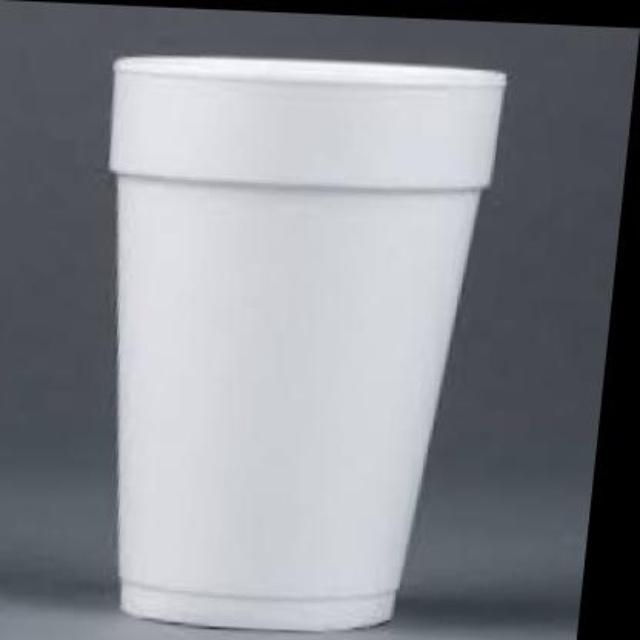trash: (111, 57, 505, 629)
